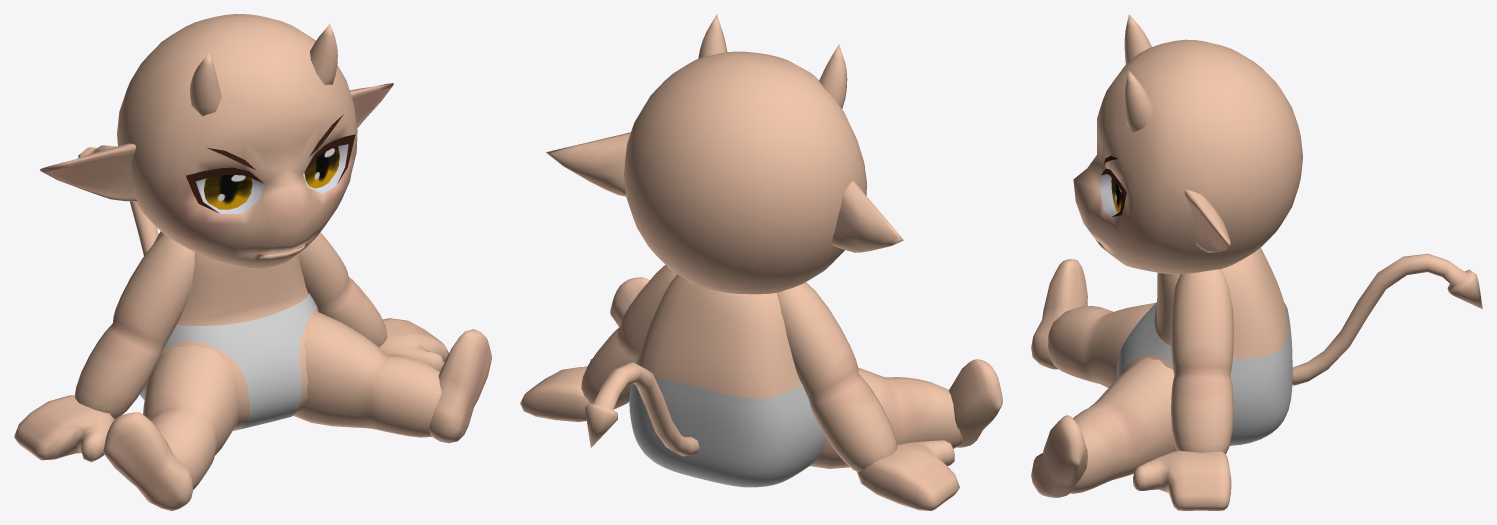
The model's file is Demon2.fbx.
The picture shows the model from 3 angles, left to right: view 1: azimuth 30°, elevation 25°; view 2: azimuth 150°, elevation 25°; view 3: azimuth 270°, elevation 25°; orthographic projection. The views are drawn at different scales.
Visible parts, largest first — view 1: Baby; view 2: Baby; view 3: Baby.
Part boxes in pixels (x1=…): Baby: x1=14, y1=14, x2=491, y2=510; Baby: x1=520, y1=14, x2=1002, y2=510; Baby: x1=1031, y1=14, x2=1482, y2=510.
Size of the model in its own units: 384 by 387 by 365.
